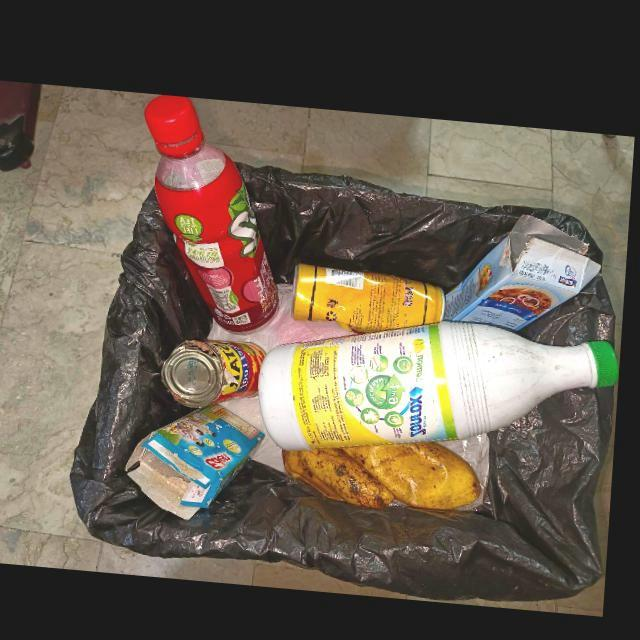aluminum: (295, 258, 449, 327), (166, 335, 271, 405)
cardboard: (131, 399, 271, 517)
plastic_bottle: (264, 313, 624, 446), (145, 92, 283, 331)
